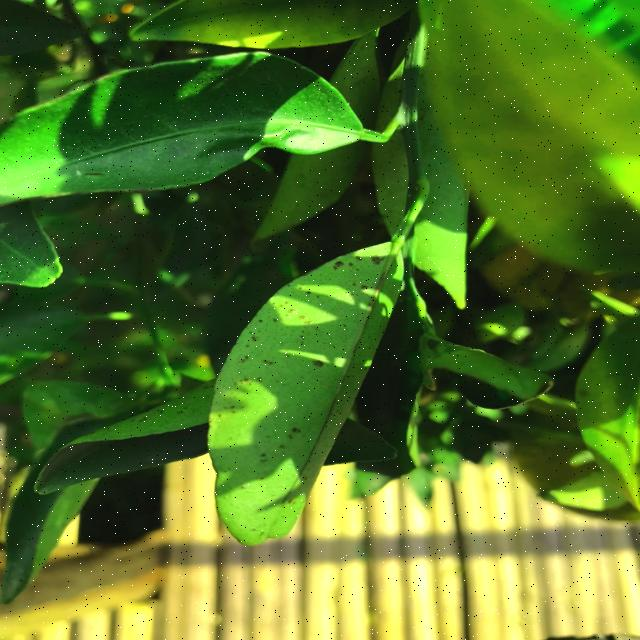melanose: (181, 239, 403, 541)
